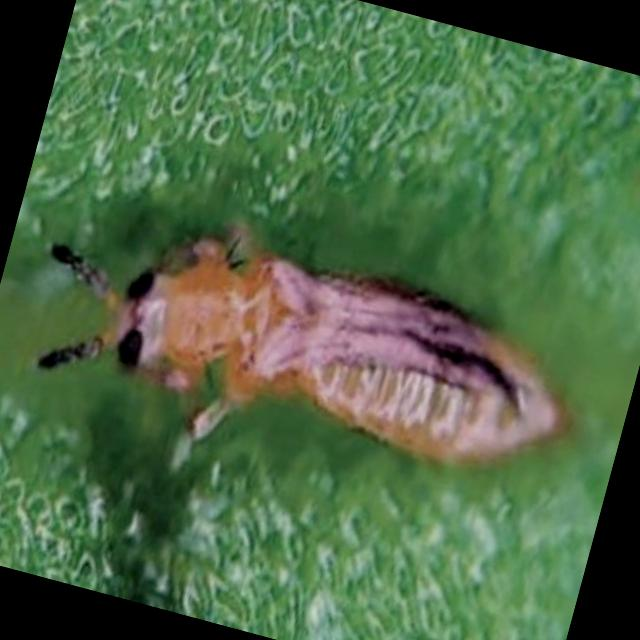melon thrips: (0, 107, 634, 640)
